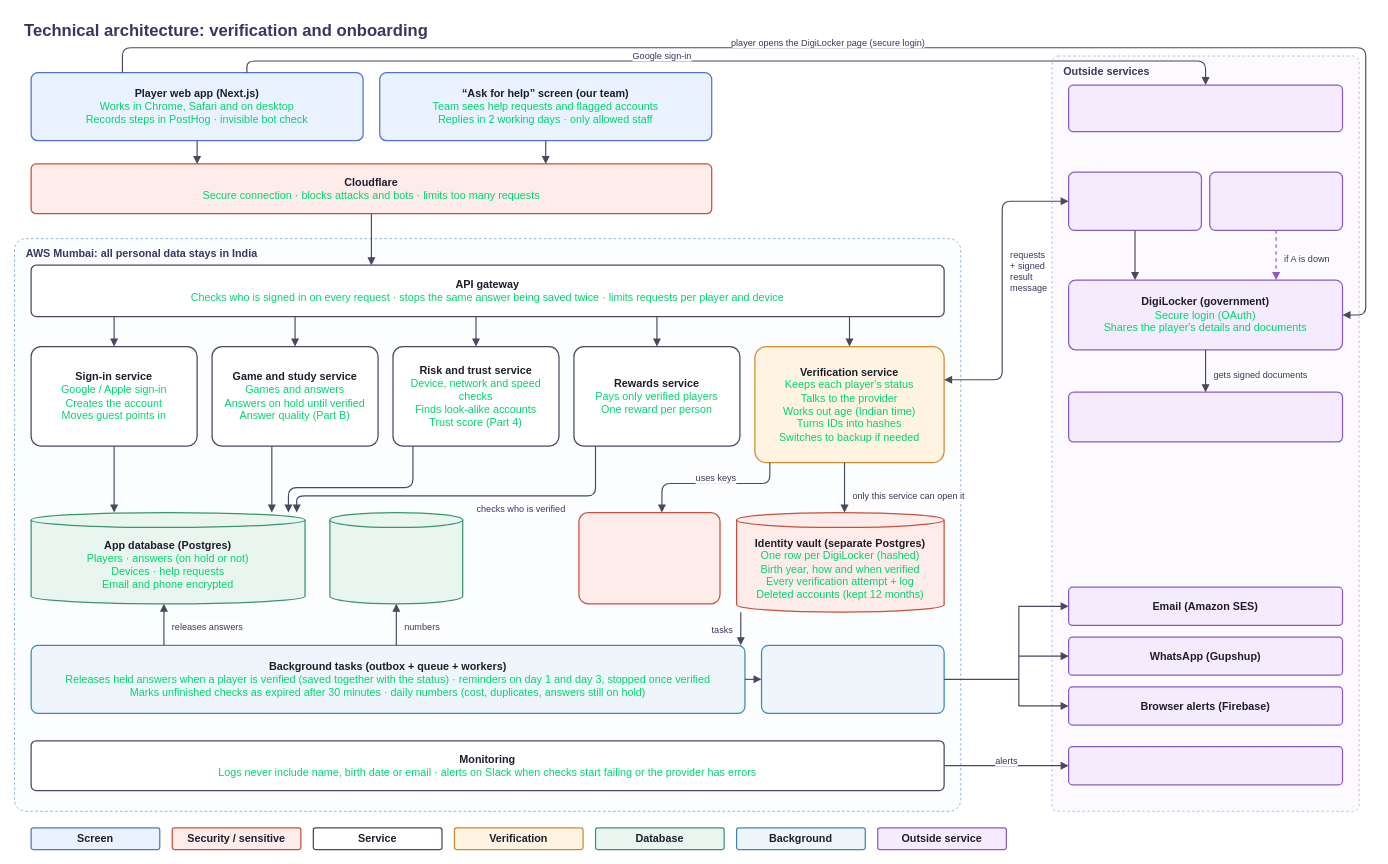
This 1388x864 diagram has some shape labels left out. The centre of each missing label's shape, as x and y in pixels:
Document issuers Aadhaar (UIDAI), Transport, Income Tax: point 1205,416
Google / Apple sign-in Confirms who signed in: point 1205,108
Key store (AWS KMS) Keys for hashing and encryption Changed regularly: point 649,558
Notification service Checks the player agreed Email · WhatsApp · browser alerts: point 852,679
PostHog On our own server Funnels, A/B tests No personal data: point 396,558
Provider A main · ₹2.49 per check: point 1135,201
Provider B backup: point 1276,201
Slack alerts: point 1205,765
